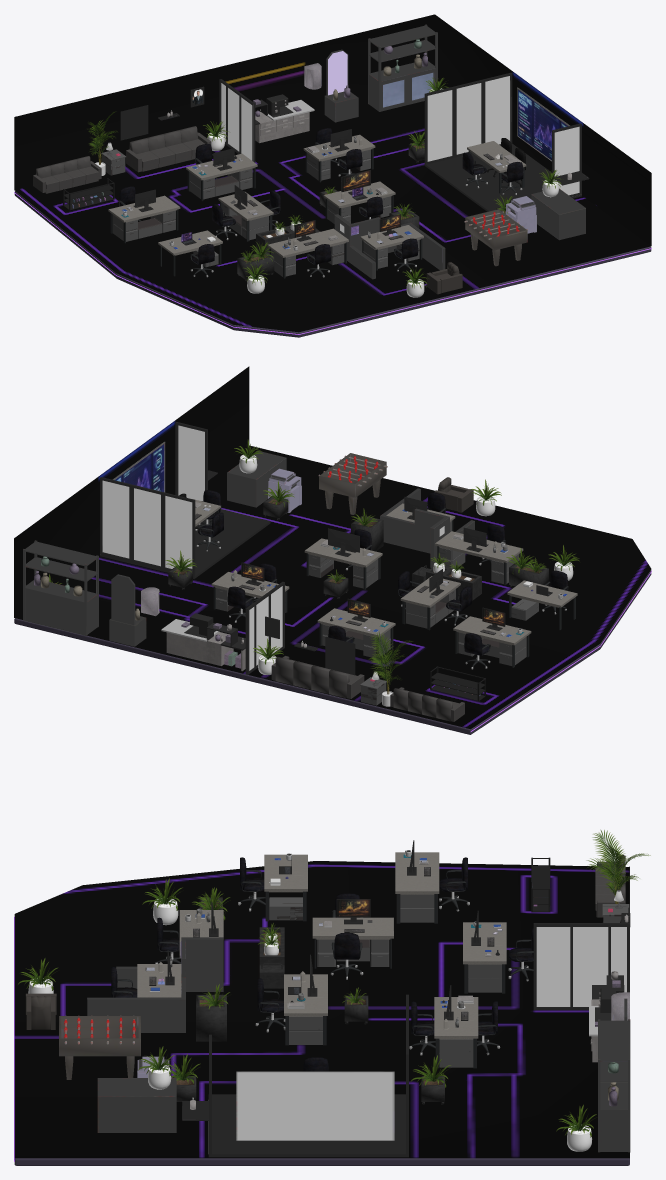
Rendered from office.desktop.4fe5f78c1fb5.glb.
3 renders of one model, top to bottom at view 1: azimuth 30°, elevation 25°; view 2: azimuth 150°, elevation 25°; view 3: azimuth 270°, elevation 25°, orthographic. The views are drawn at different scales.
Parts seen in each view (by area): view 1: Plane.005, wall 1, Plane.006, Plane.020, Cube.002, Desktop plinth, Cube.003, Plane.031, Cube.021, Cube.016, instance_1.002, instance_0.002 (+13 smaller); view 2: Plane.005, wall 1, Plane.006, Plane.020, Desktop plinth, Cube.002, Cube.003, Cube.016, Cube.021, Plane.031, instance_0.002, instance_1.002 (+10 smaller); view 3: Plane.005, wall 1, Plane.006, Cube.003, Plane.020, Desktop plinth, Cube.016, instance_1.002, instance_0.002, instance_2.002, instance_3.002, model_4 (+15 smaller).
Boxes of the visible parts, box(x1,y1,x2,y2) form: Plane.005: box(14, 14, 651, 332); wall 1: box(324, 24, 585, 279); Plane.006: box(219, 72, 581, 211); Plane.020: box(113, 149, 419, 276); Cube.002: box(33, 126, 211, 193); Desktop plinth: box(14, 191, 651, 337); Cube.003: box(158, 192, 423, 278); Plane.031: box(106, 63, 589, 239); Cube.021: box(253, 94, 314, 143); Cube.016: box(237, 141, 505, 281); instance_1.002: box(108, 195, 180, 243); instance_0.002: box(186, 153, 257, 201); Plane.005: box(14, 366, 651, 729); wall 1: box(23, 441, 474, 646); Plane.006: box(100, 422, 284, 674); Plane.020: box(216, 521, 526, 665); Desktop plinth: box(14, 570, 651, 734); Cube.002: box(271, 656, 464, 721); Cube.003: box(386, 503, 577, 630); Cube.016: box(168, 495, 548, 600); Cube.021: box(161, 613, 245, 671); Plane.031: box(141, 470, 533, 685); instance_0.002: box(317, 608, 395, 658); instance_1.002: box(453, 616, 531, 667); Plane.005: box(14, 861, 629, 1158); wall 1: box(59, 937, 630, 1152); Plane.006: box(208, 923, 629, 1157); Cube.003: box(137, 854, 393, 997); Plane.020: box(289, 894, 501, 1067); Desktop plinth: box(14, 1158, 629, 1165); Cube.016: box(172, 897, 444, 1104); instance_1.002: box(395, 852, 439, 923); instance_0.002: box(463, 922, 506, 993); instance_2.002: box(434, 997, 478, 1068); instance_3.002: box(284, 974, 327, 1045); model_4: box(586, 830, 650, 903).
Bounding box in the file's own units: 14.81 × 2.6 × 13.42.
Materials: 33 (28 with a texture image).
